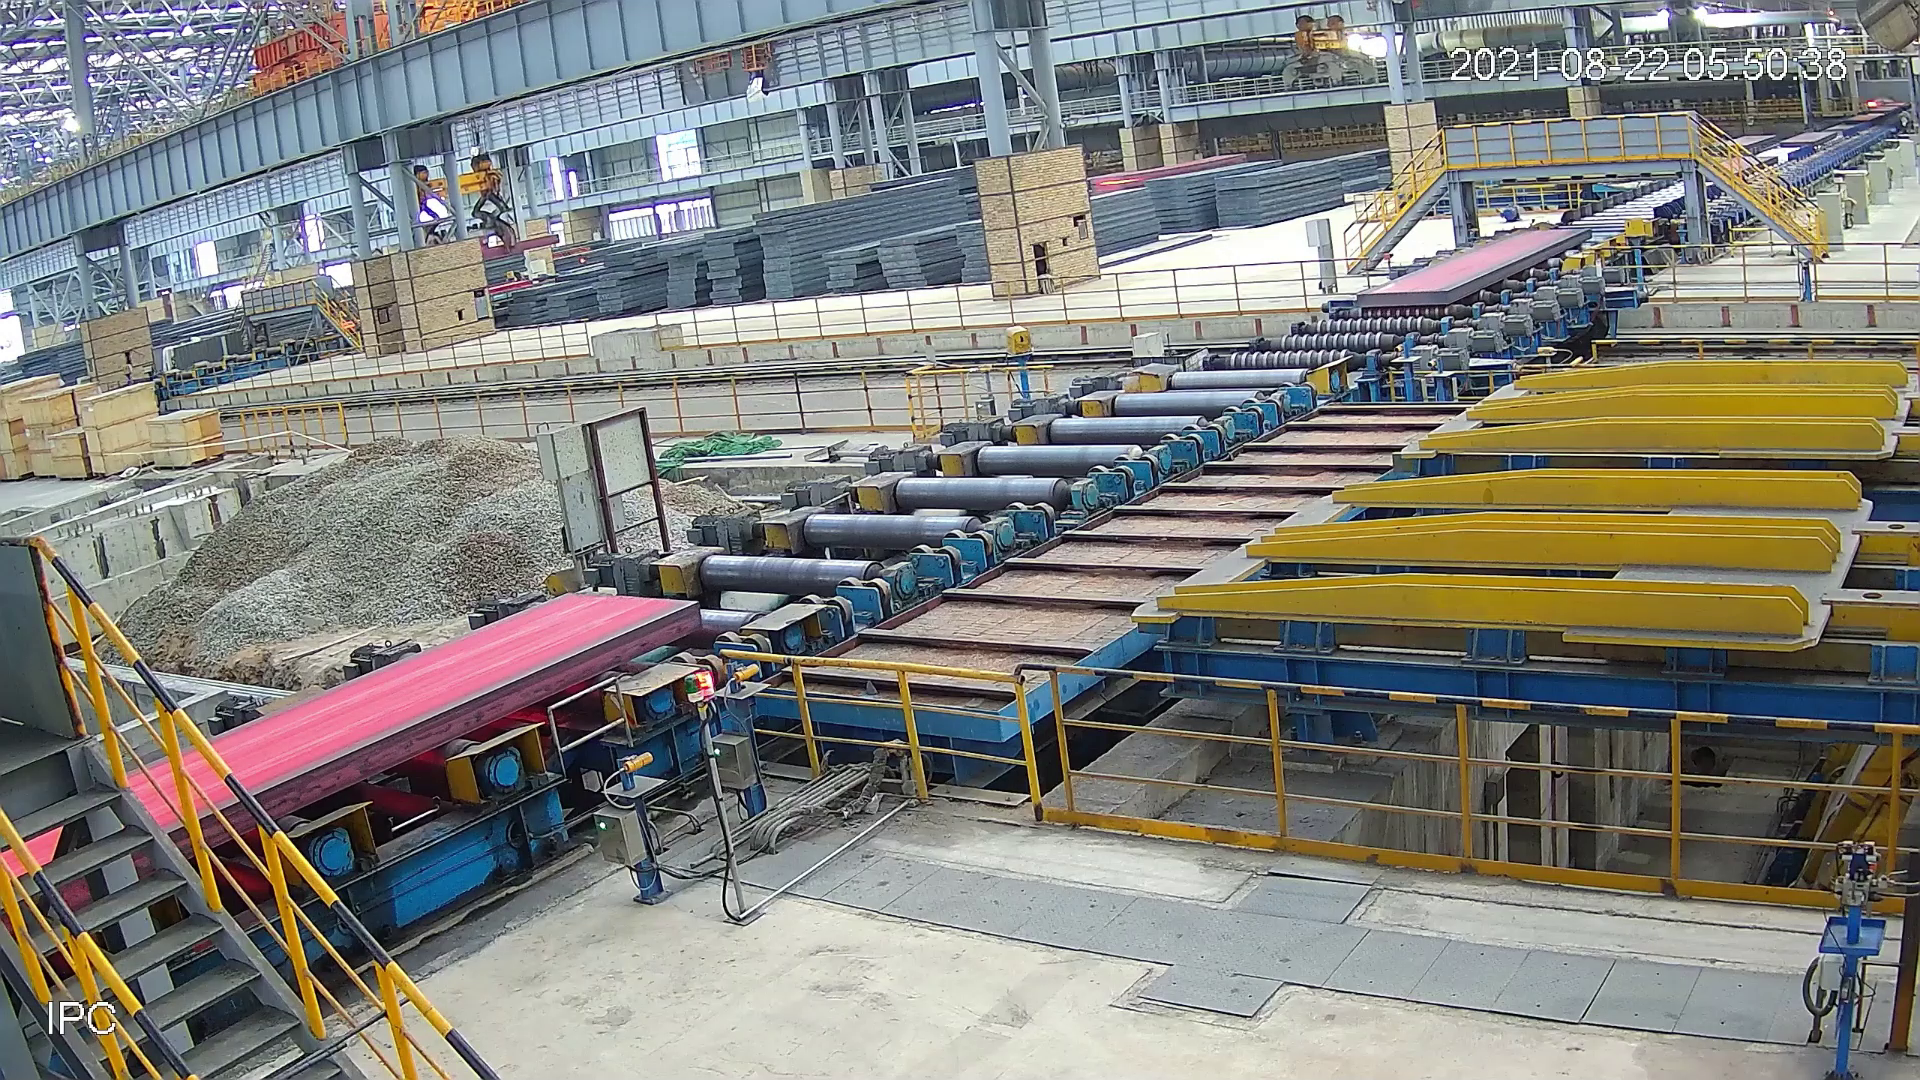crane: (1273, 13, 1374, 102)
slab: (1, 591, 707, 913), (1346, 220, 1598, 310)
